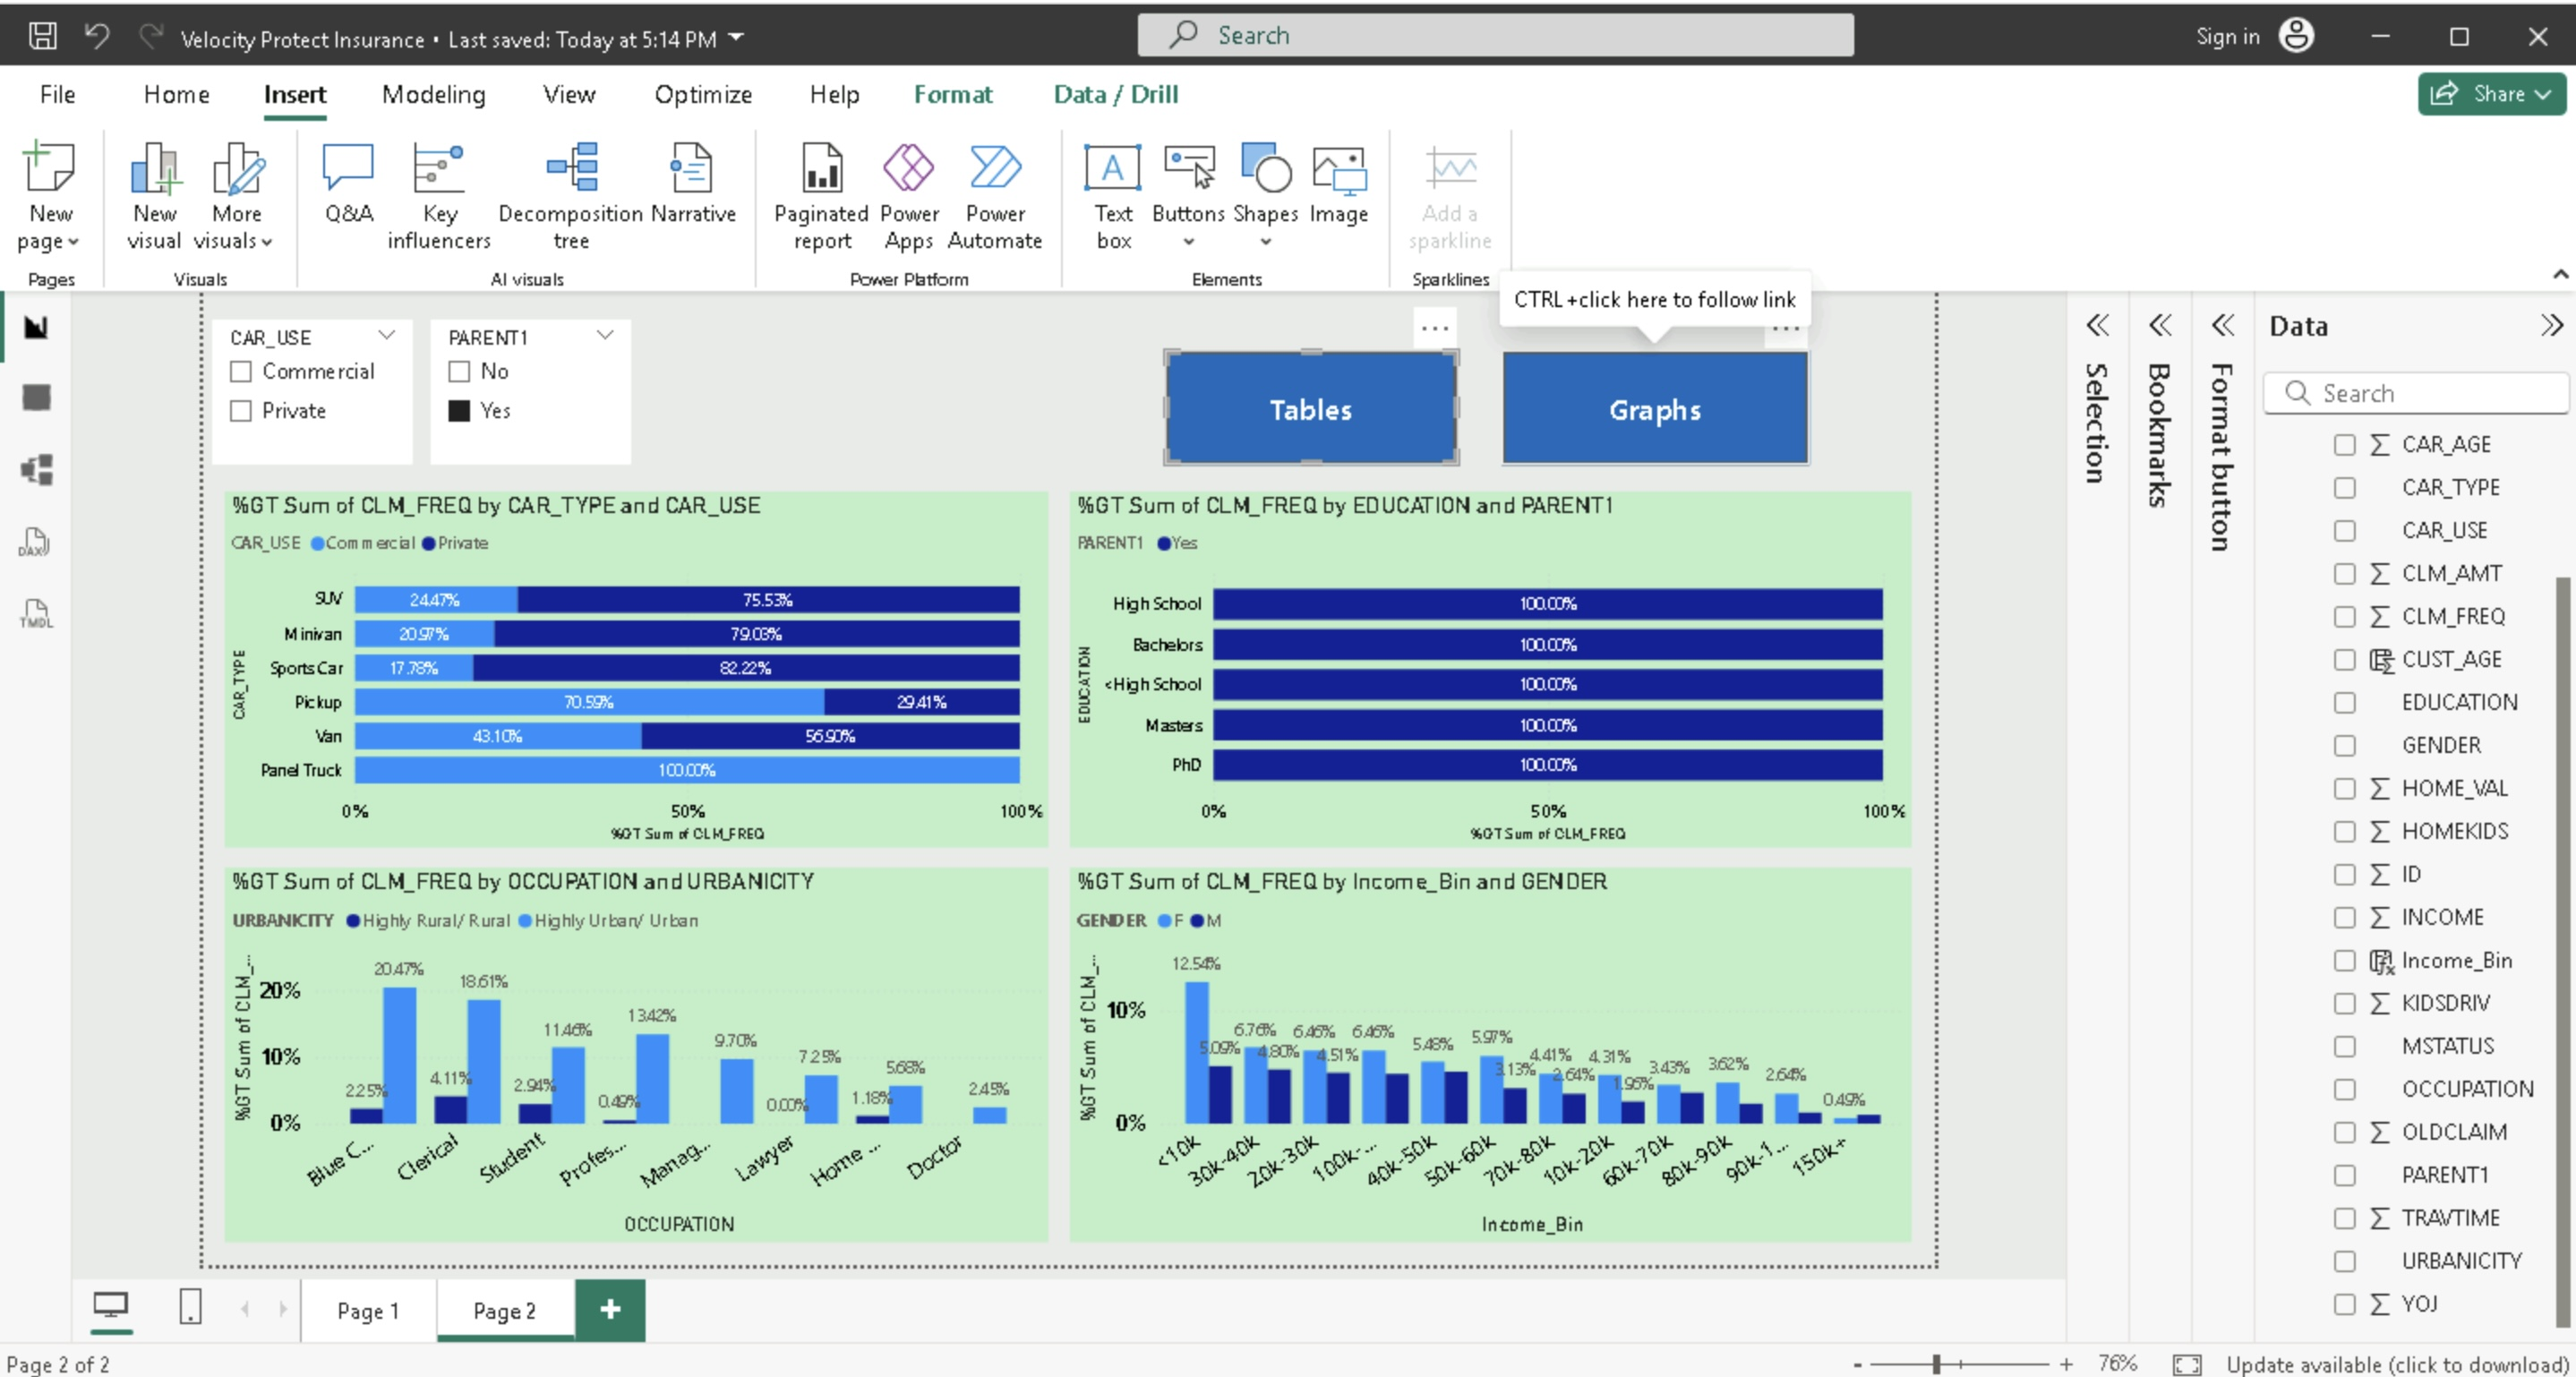

The page's visual inventory and layout, read from the dashboard file:
{"tool":"powerbi","page":{"name":"Page 2","canvas":[1280,720],"ordinal":1},"visuals":[{"type":"hundredPercentStackedBarChart","fields":{"Y":["Sum(Data.CLM_FREQ)"],"Category":["Data.CAR_TYPE"],"Series":["Data.CAR_USE"]},"box":[15.9,148.2,608.8,263.4],"z":0},{"type":"hundredPercentStackedBarChart","fields":{"Y":["Sum(Data.CLM_FREQ)"],"Category":["Data.EDUCATION"],"Series":["Data.PARENT1"]},"box":[640.6,148.2,622.1,263.4],"z":1},{"type":"clusteredColumnChart","fields":{"Y":["Divide(Sum(Data.CLM_FREQ), ScopedEval(Sum(Data.CLM_FREQ), []))"],"Category":["Data.OCCUPATION"],"Series":["Data.URBANICITY"]},"box":[15.9,426.2,608.8,276.6],"z":2},{"type":"clusteredColumnChart","fields":{"Y":["Divide(Sum(Data.CLM_FREQ), ScopedEval(Sum(Data.CLM_FREQ), []))"],"Category":["Data.Income_Bin"],"Series":["Data.GENDER"]},"box":[640.6,426.2,622.1,276.6],"z":3},{"type":"slicer","fields":{"Values":["Data.CAR_USE"]},"box":[6.6,21.2,148.2,107.2],"z":8},{"type":"slicer","fields":{"Values":["Data.PARENT1"]},"box":[168.1,21.2,148.2,107.2],"z":9},{"type":"actionButton","box":[711.1,43.6,216.2,85.3],"z":10},{"type":"actionButton","box":[959.5,43.6,227.6,85.3],"z":11}]}

Visuals, with their boxes on the page's 1280x720 design canvas (x1, y1, x2, y2). These are canvas units, not pixel positions in the 2576x1377 screenshot, which may show the page scaled, cropped or inside an application window:
hundredPercentStackedBarChart - Sum(Data.CLM_FREQ) x Data.CAR_TYPE: 16 148 625 412
hundredPercentStackedBarChart - Sum(Data.CLM_FREQ) x Data.EDUCATION: 641 148 1263 412
clusteredColumnChart - Divide(Sum(Data.CLM_FREQ), ScopedEval(Sum(Data.CLM_FREQ), [])) x Data.OCCUPATION: 16 426 625 703
clusteredColumnChart - Divide(Sum(Data.CLM_FREQ), ScopedEval(Sum(Data.CLM_FREQ), [])) x Data.Income_Bin: 641 426 1263 703
slicer - Data.CAR_USE: 7 21 155 128
slicer - Data.PARENT1: 168 21 316 128
actionButton: 711 44 927 129
actionButton: 960 44 1187 129
